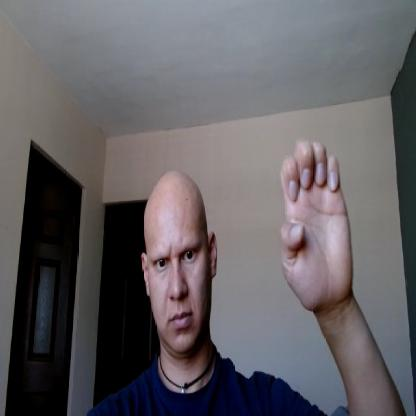E: (278, 136, 355, 307)
